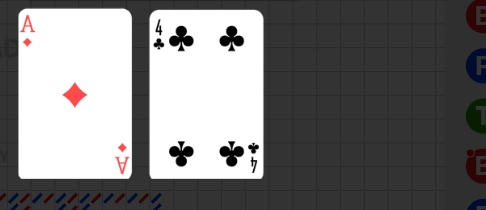4C: (246, 140, 260, 175)
AD: (21, 14, 38, 50)
